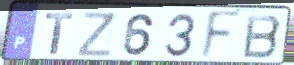3: (163, 12, 197, 60)
6: (122, 13, 155, 58)
B: (240, 13, 284, 60)
F: (198, 10, 244, 63)
T: (44, 12, 75, 56)
Z: (77, 11, 118, 59)
